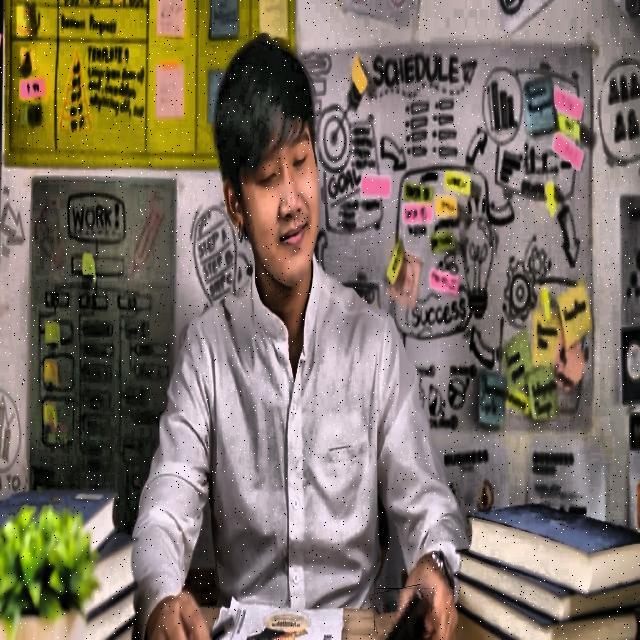Phone: (371, 585, 434, 640)
